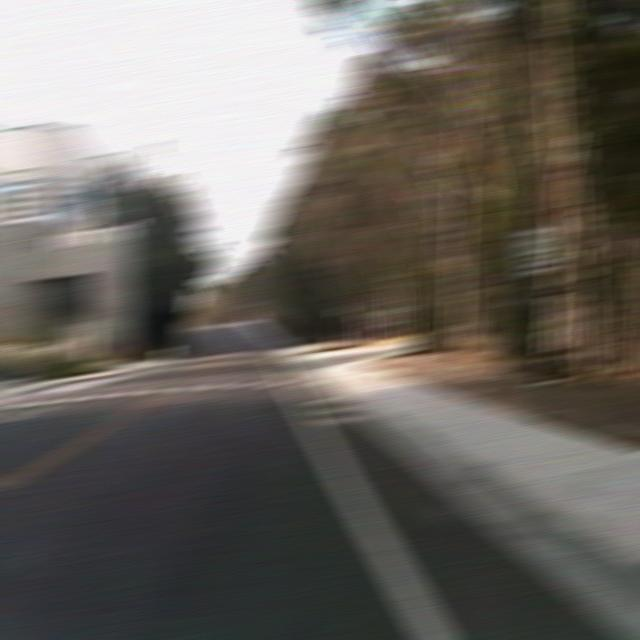speedLimit35: (514, 225, 556, 274)
